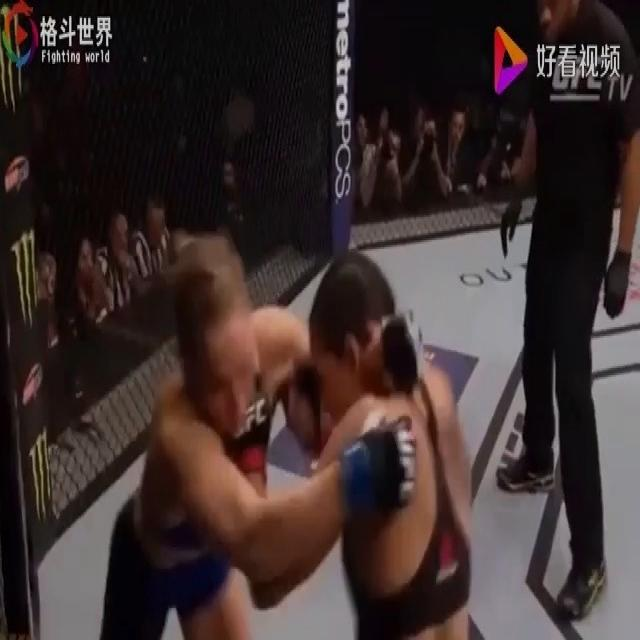fight: (104, 237, 474, 638)
non-fight: (472, 0, 639, 514)
